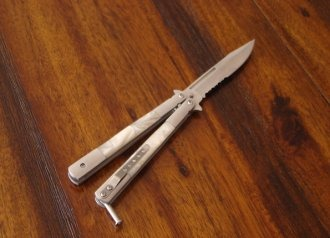knife: (63, 36, 259, 227)
